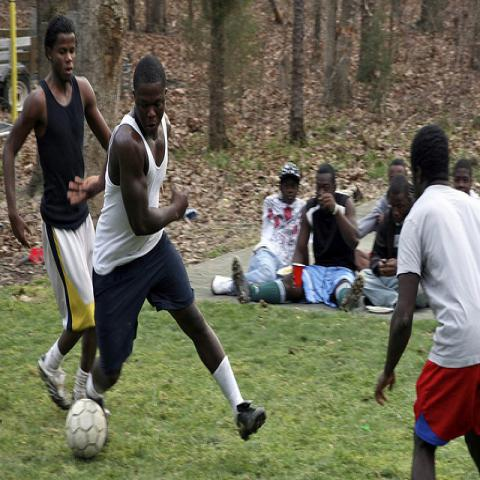car: (0, 29, 38, 114)
